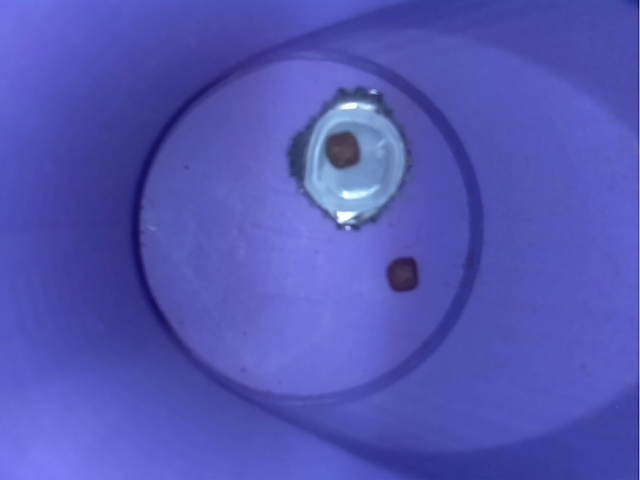capsule: (278, 78, 419, 235)
croquette: (381, 248, 433, 301), (320, 124, 363, 172)
